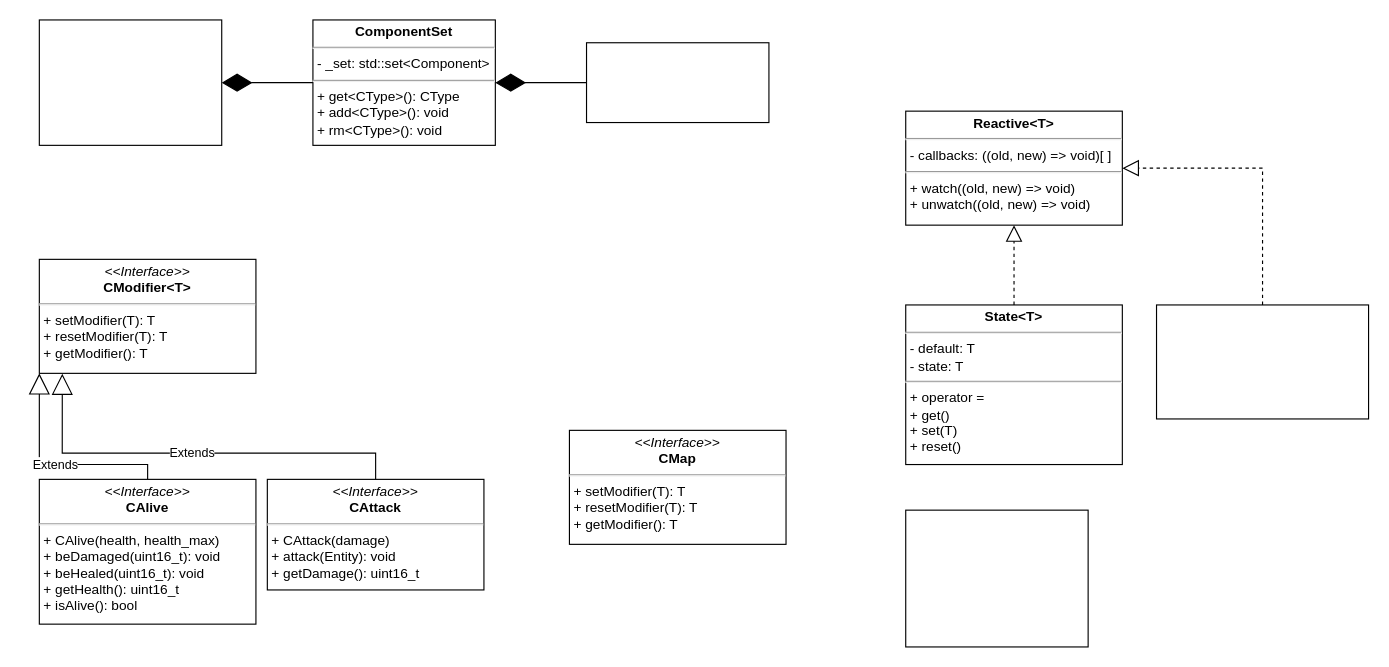
Image size: 1389x667. Some labels were removed from this diagram. The centre of each missing label's shape, as x and y in pixels:
"<<abstract>> IComponent<T> - states: State<T> + Component(config: JSON) + State" goes at [996,578].
"Component + Component(config: JSON) + name(): std::string" goes at [677,82].
"Computed<T> - state: T + Computed(() => T) + get()" goes at [1262,361].
"Entity - _set: ComponentSet + Entity(JSON)" goes at [130,82].
